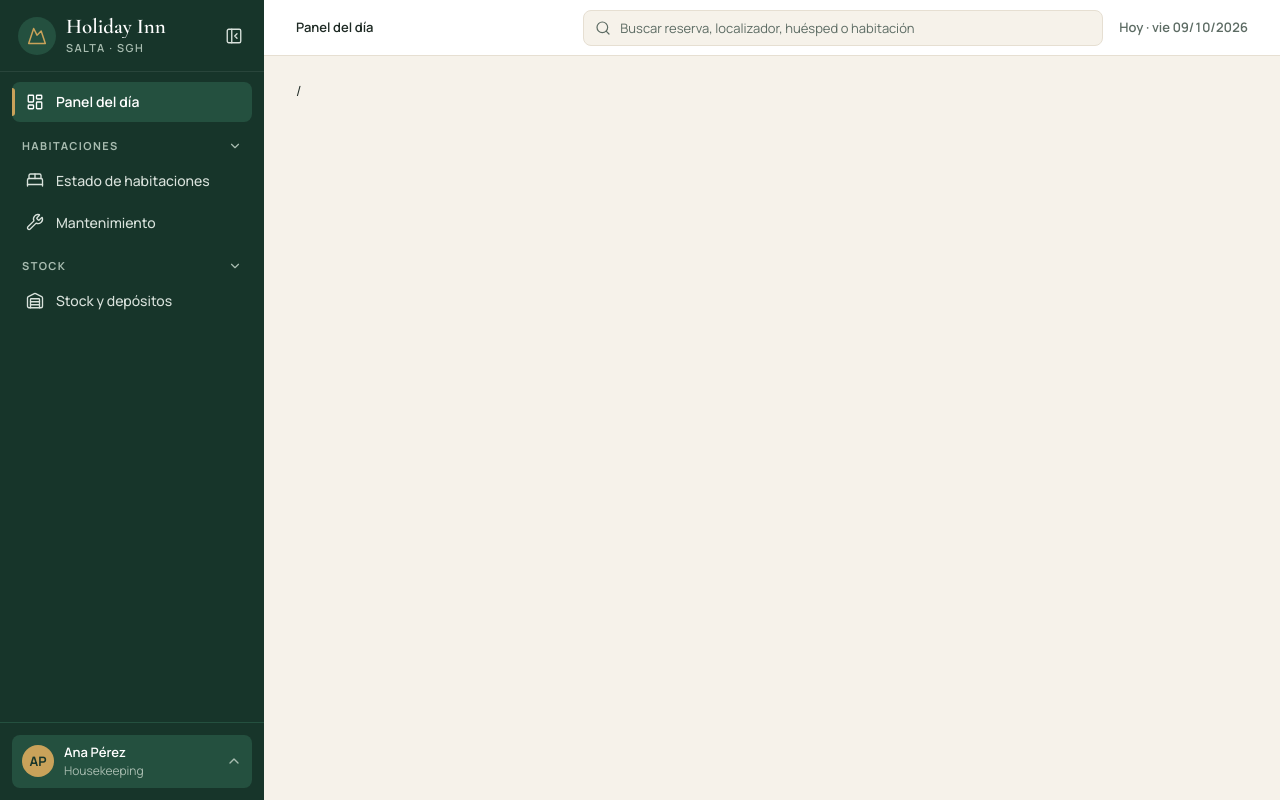
Test case: Layout — tarjeta de usuario y menú de cuenta › muestra iniciales, nombre y rol, y abre un menú con nombre, email, rol, Mi perfil y Cerrar sesión
The width and height of the screenshot is (1280, 800).
Click the button "AP Ana Pérez Housekeeping".
click(132, 761)  # box [12,734,252,788]
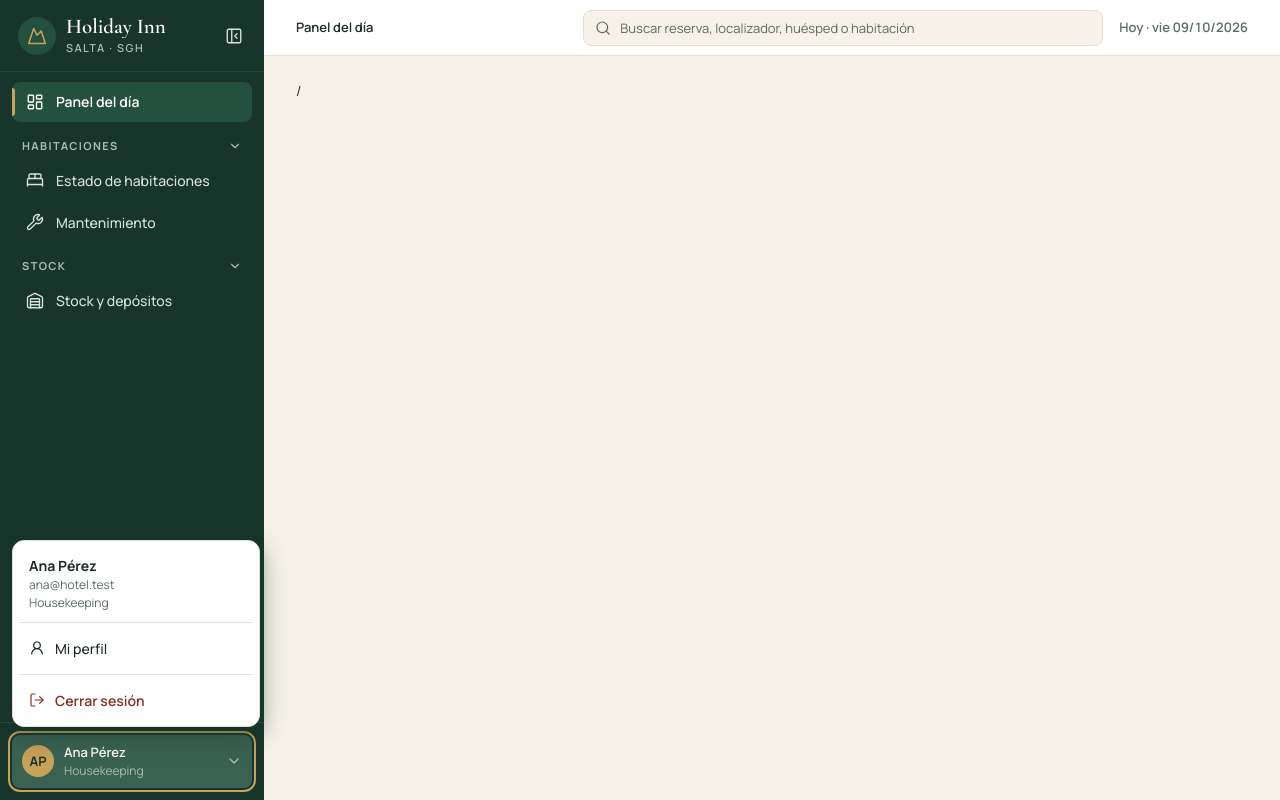
Result: the 1st text "Ana Pérez" is shown at [29,556,97,574]
Result: the text "ana@hotel.test" is shown at [29,576,115,592]
Result: the text "Housekeeping" below "ana@hotel.test" is shown at [29,594,109,610]
